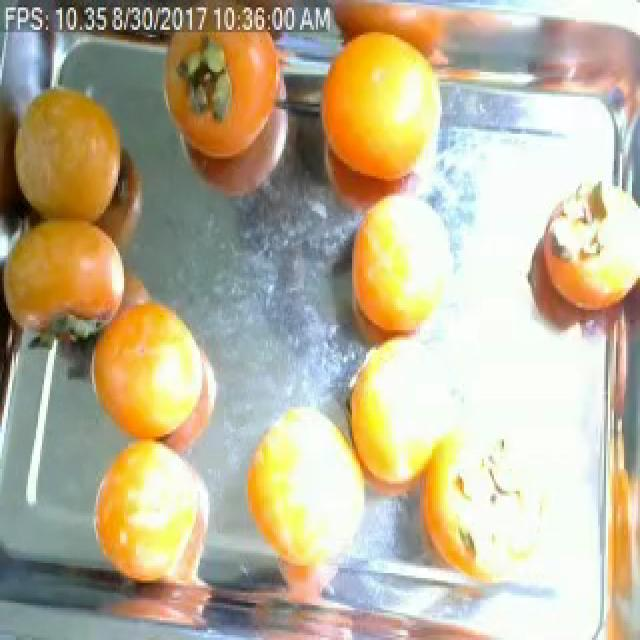Fruit: (76, 283, 230, 469), (2, 67, 142, 248), (80, 427, 228, 598)
